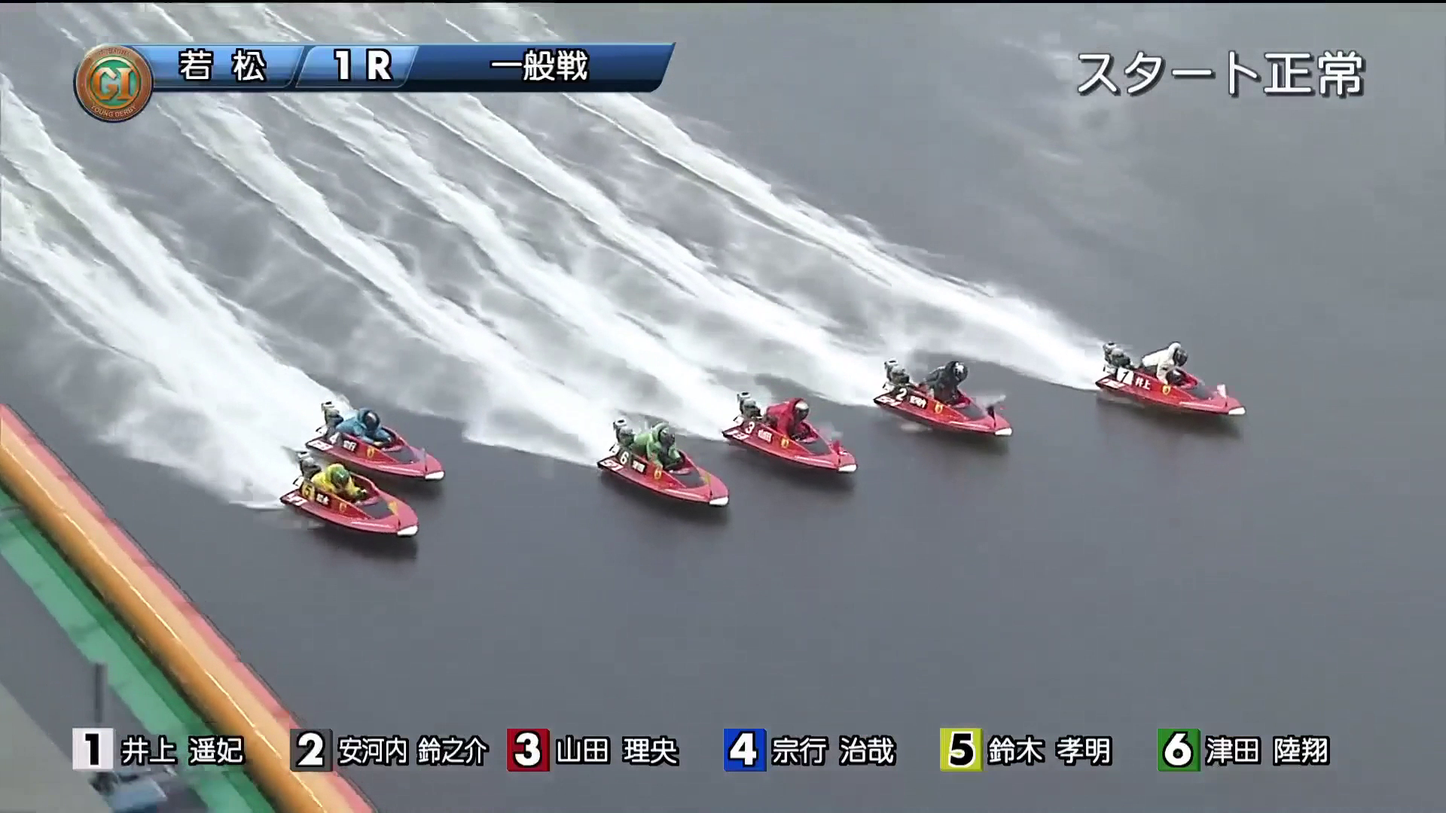１号艇: (1114, 351, 1242, 402)
２号艇: (892, 368, 1014, 424)
３号艇: (752, 425, 883, 467)
４号艇: (622, 451, 739, 513)
５号艇: (333, 428, 456, 483)
６号艇: (333, 508, 432, 565)
